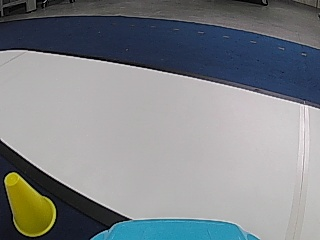cone: (5, 174, 55, 234)
